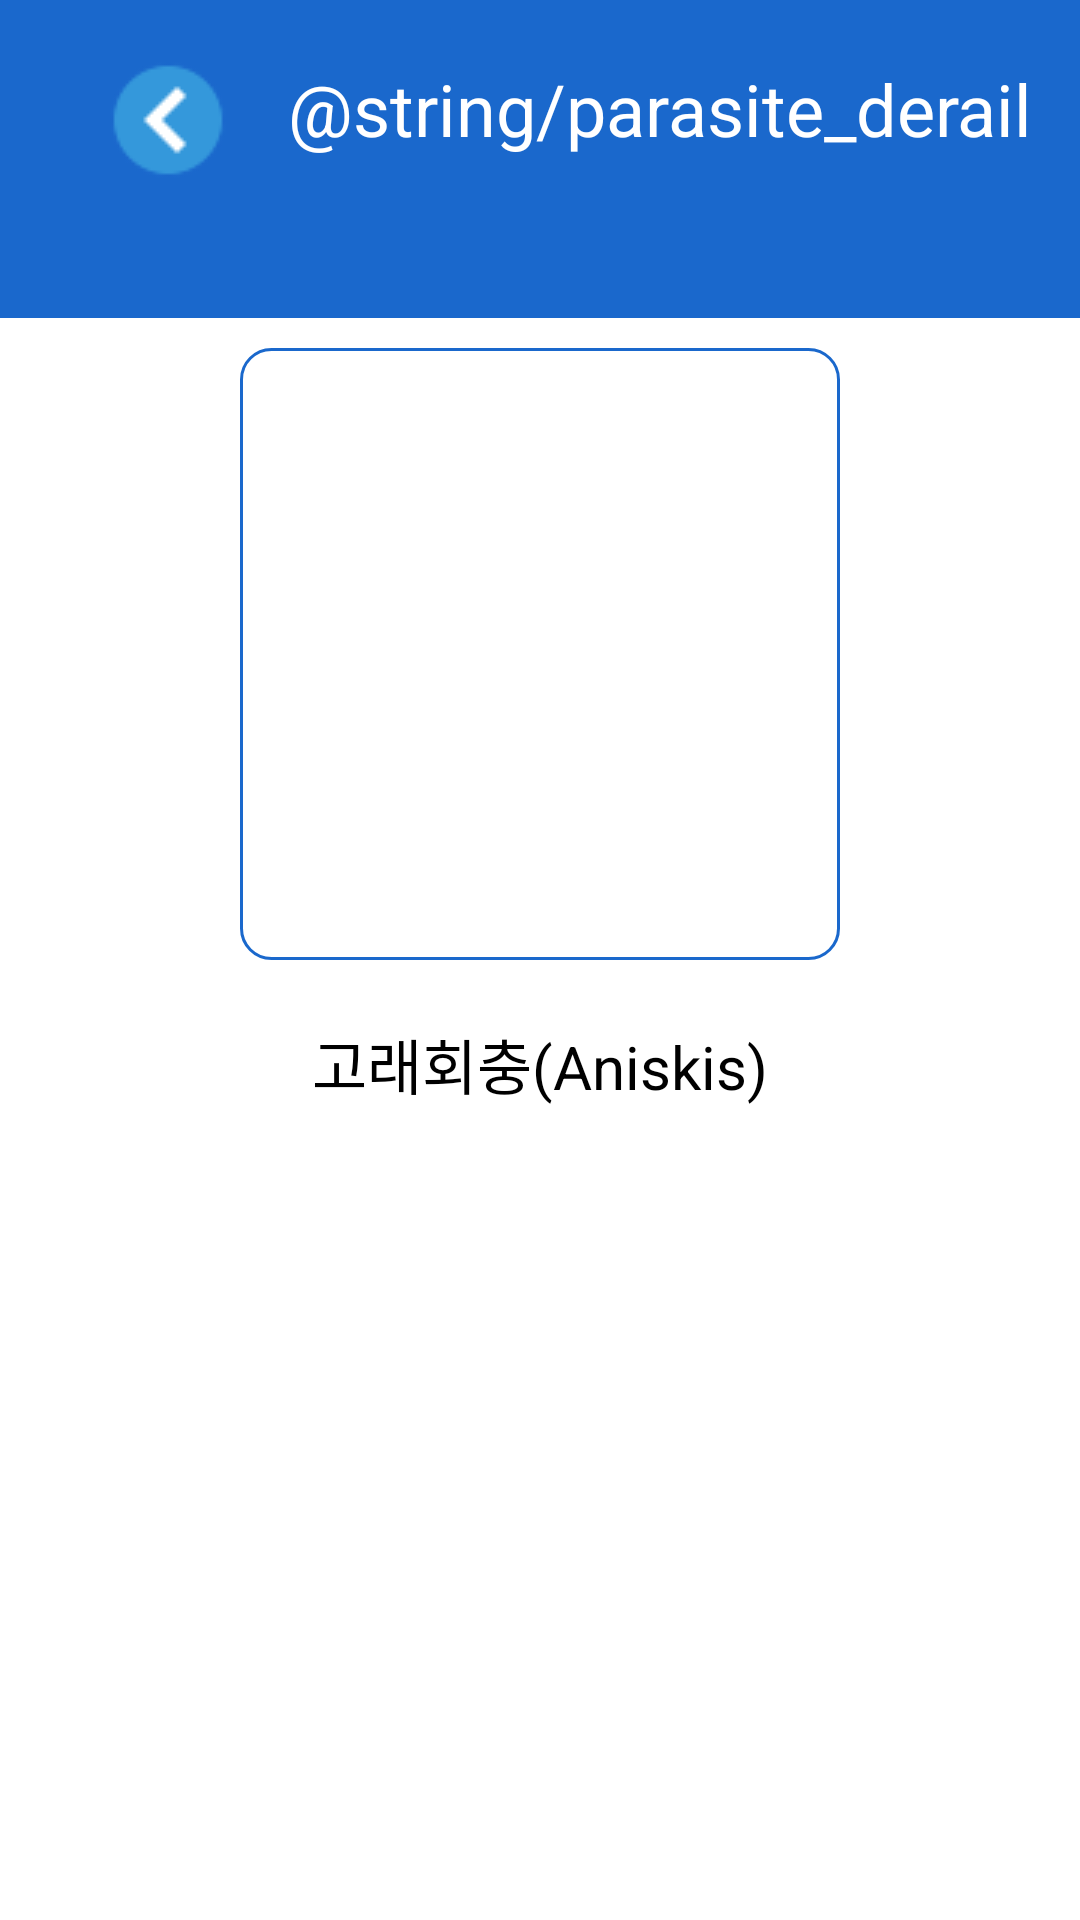

Locate icon controls on the screen. Image size 1080 x 1920, boxes as (x1, y1, x2, y2).
back to: (114, 66, 222, 174)
